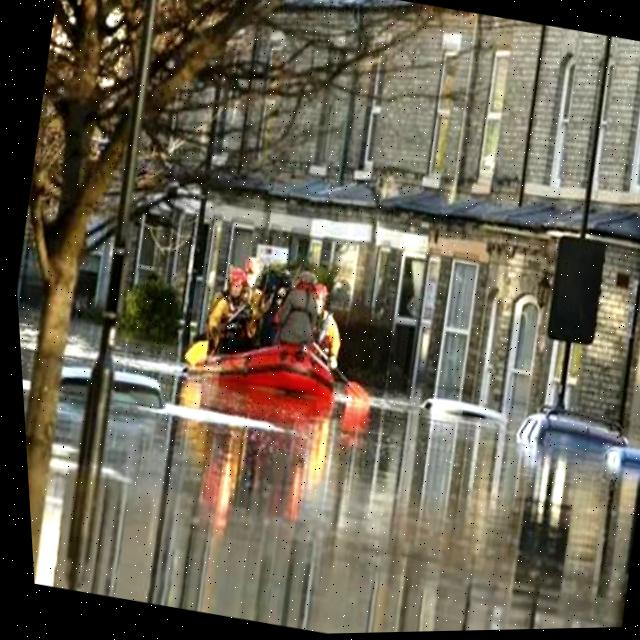civilian: (267, 257, 332, 369)
rescuer: (215, 248, 296, 360), (291, 270, 367, 373), (192, 262, 270, 362)
